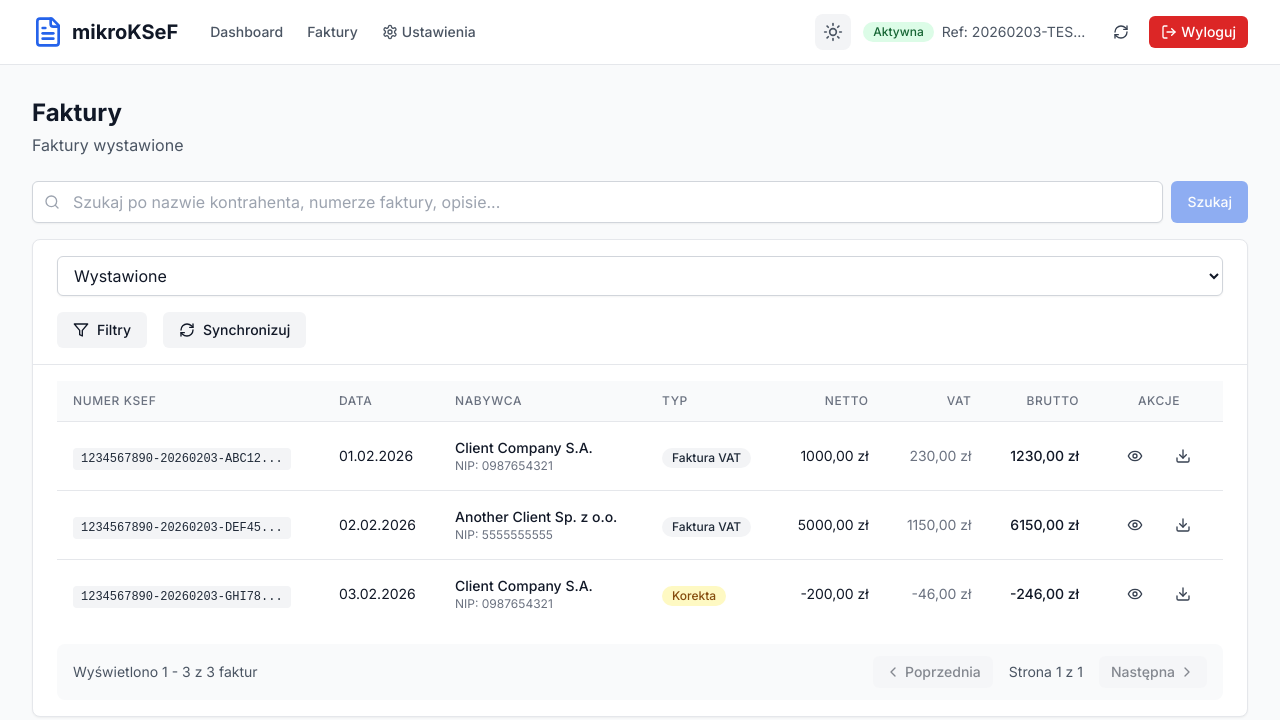
Test case: Invoices Page › can toggle filters panel
The image size is (1280, 720).
Click the button "Filtry" at [102, 330], box [57, 312, 147, 348]
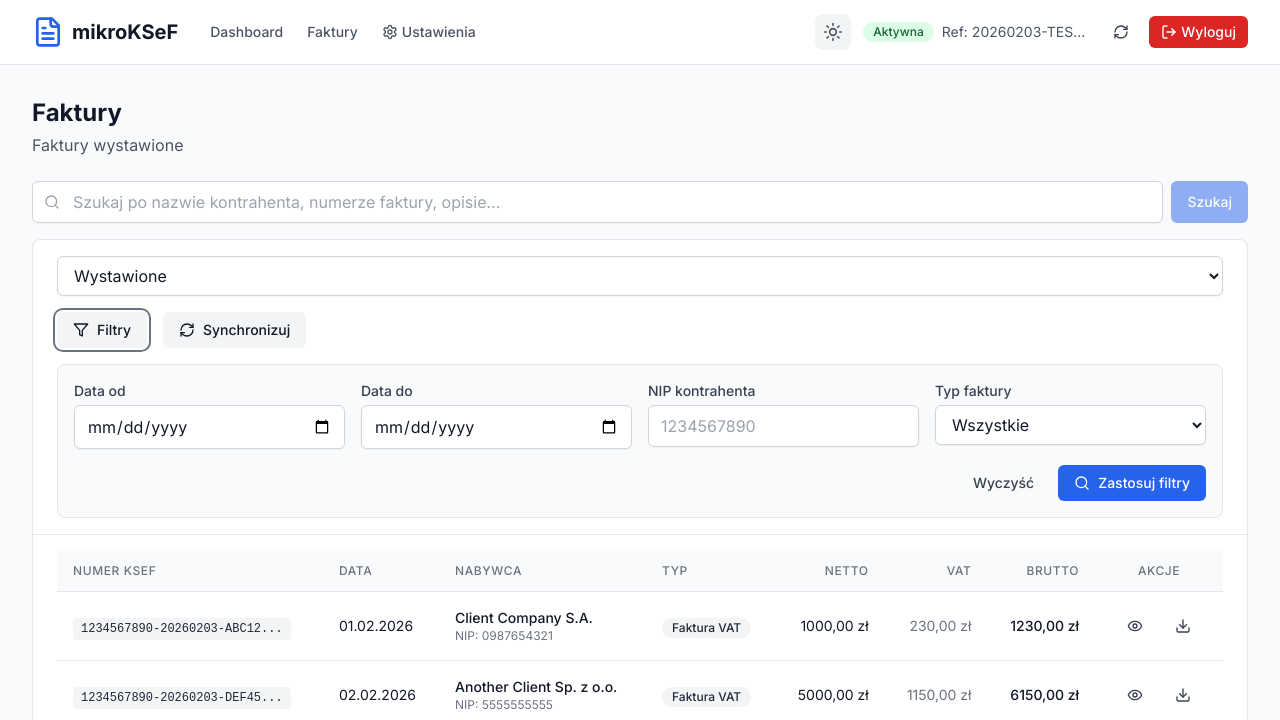
expect the text "Data od" is shown: met, box [74, 382, 126, 399]
expect the text "Data do" is shown: met, box [361, 382, 413, 399]
expect the text "NIP kontrahenta" is shown: met, box [648, 382, 755, 399]
